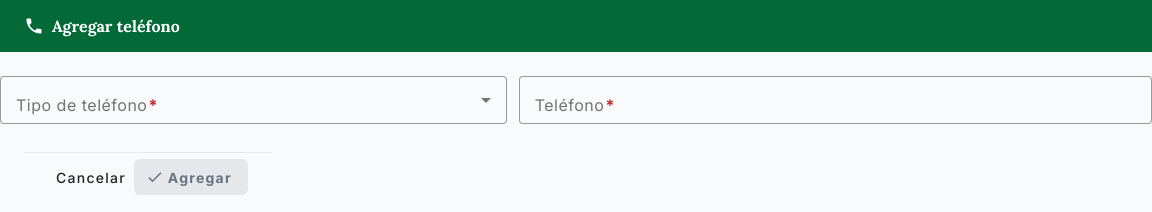
Test: ModalTelefonoComponent › debe mostrar el error cuando el teléfono no tiene 10 dígitos
Type "30012" into the field named "telefonoVal".
click(835, 100); type("30012")  # box 535,88 -> 1136,112
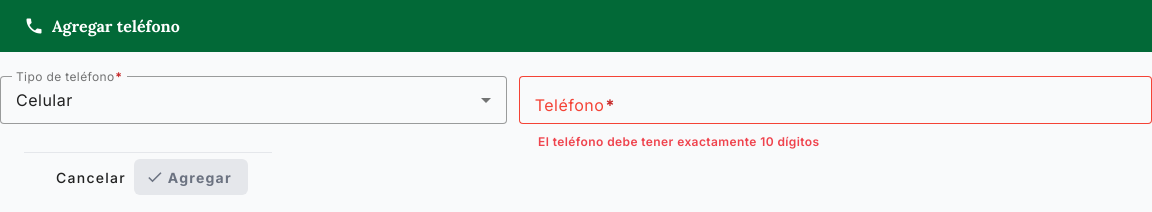
Now the text "El teléfono debe tener exactamente 10 dígitos" is shown, box 535,134 -> 820,149
